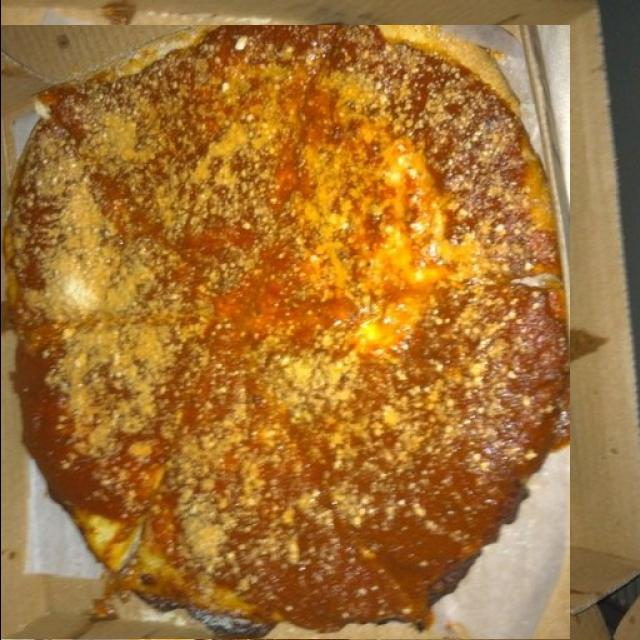pizza: (0, 25, 569, 639)
